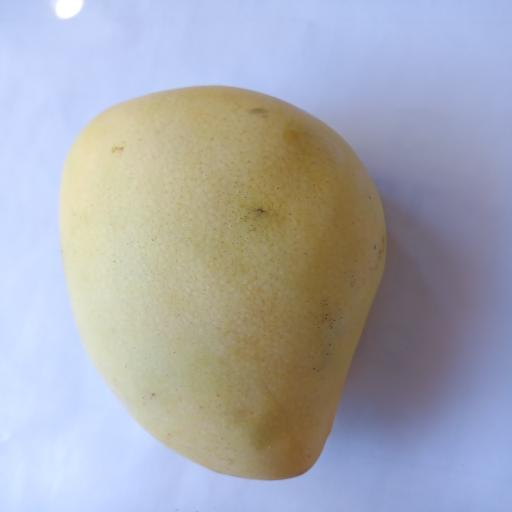mango-ripe: (44, 70, 403, 500)
